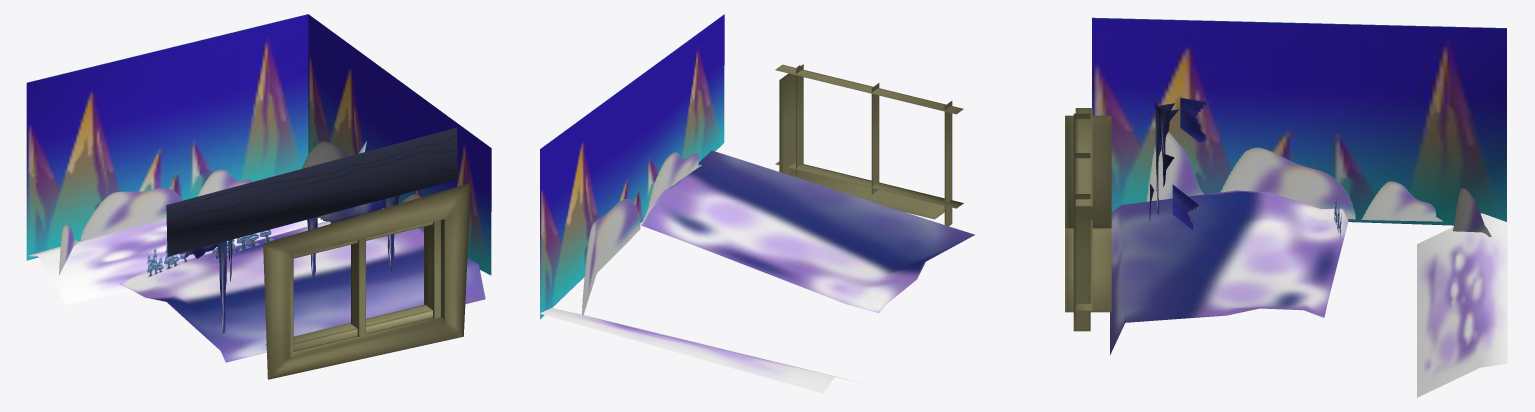
File: SnowView.glb
3 views of the same model, side by side, from view 1: azimuth 30°, elevation 25°; view 2: azimuth 150°, elevation 25°; view 3: azimuth 270°, elevation 25° (orthographic). The views are drawn at different scales.
Parts seen in each view (by area): view 1: polySurface9, polySurface10, WindowFrame, polySurface13, polySurface4, polySurface18, windowBar2, windowBar4, windowBar3, polySurface19, pCube5, polySurface14 (+3 smaller); view 2: polySurface10, polySurface9, polySurface4, polySurface19, WindowFrame, windowBar, windowBar2, windowBar1, windowBar4, windowBar3; view 3: polySurface9, polySurface10, polySurface4, polySurface20, WindowFrame, windowBar3, windowBar, polySurface18, pCube3, pCube5, polySurface14, polySurface16.
Part boxes in pixels (bbox=[...]): polySurface9: bbox=[26, 14, 491, 275]; polySurface10: bbox=[119, 208, 485, 362]; WindowFrame: bbox=[263, 183, 470, 379]; polySurface13: bbox=[166, 127, 457, 256]; polySurface4: bbox=[28, 217, 325, 305]; polySurface18: bbox=[59, 169, 252, 275]; windowBar2: bbox=[265, 305, 432, 351]; windowBar4: bbox=[351, 238, 365, 336]; windowBar3: bbox=[426, 220, 440, 318]; polySurface19: bbox=[302, 141, 423, 231]; pCube5: bbox=[318, 195, 400, 223]; polySurface14: bbox=[217, 241, 226, 333]; polySurface10: bbox=[641, 150, 974, 312]; polySurface9: bbox=[540, 14, 724, 319]; polySurface4: bbox=[540, 308, 858, 393]; polySurface19: bbox=[582, 152, 701, 315]; WindowFrame: bbox=[779, 65, 944, 219]; windowBar: bbox=[775, 64, 963, 114]; windowBar2: bbox=[775, 161, 963, 208]; windowBar1: bbox=[944, 101, 952, 226]; windowBar4: bbox=[871, 83, 879, 194]; windowBar3: bbox=[796, 64, 803, 175]; polySurface9: bbox=[1092, 17, 1506, 225]; polySurface10: bbox=[1110, 190, 1348, 354]; polySurface4: bbox=[1417, 213, 1507, 397]; polySurface20: bbox=[1146, 132, 1443, 221]; WindowFrame: bbox=[1065, 115, 1111, 312]; windowBar3: bbox=[1073, 194, 1090, 331]; windowBar: bbox=[1075, 108, 1092, 206]; polySurface18: bbox=[1453, 188, 1491, 236]; pCube3: bbox=[1180, 98, 1208, 143]; pCube5: bbox=[1172, 184, 1200, 229]; polySurface14: bbox=[1155, 100, 1175, 214]; polySurface16: bbox=[1157, 106, 1179, 161].
Bounding box in the file's own units: 16.18 × 9.91 × 18.13.
Materials: 4 (4 with a texture image).
